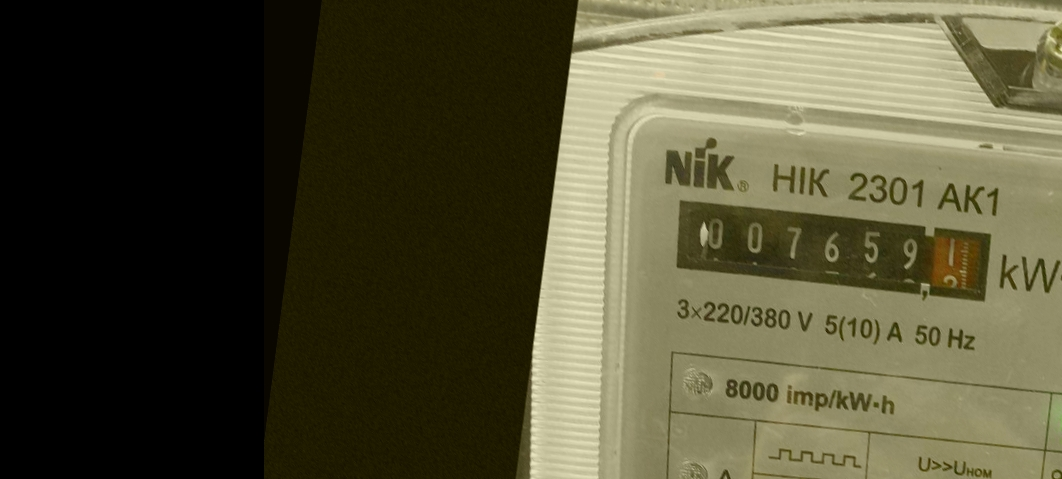0: (743, 218, 771, 257), (704, 213, 730, 254)
1: (943, 233, 964, 271)
5: (861, 227, 886, 266)
6: (821, 227, 847, 265)
7: (781, 222, 807, 262)
9: (899, 234, 924, 273)
screen: (663, 186, 1006, 318)
